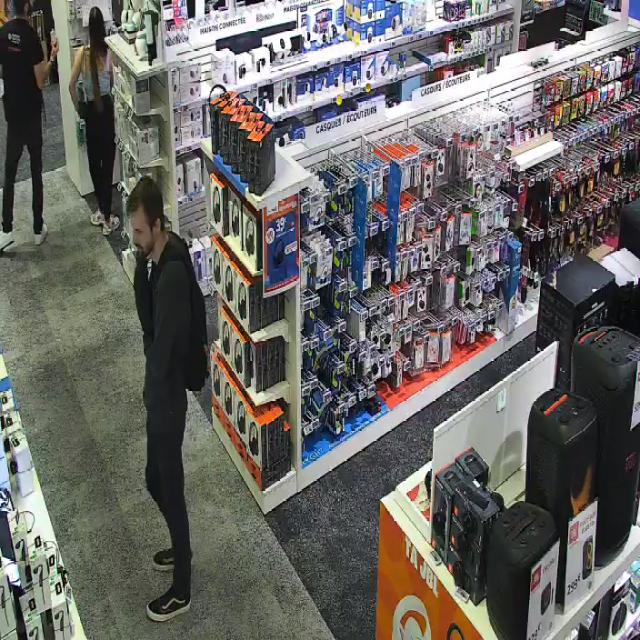article: (50, 28, 56, 47)
bags: (76, 81, 86, 118)
hands: (50, 37, 59, 60)
person: (127, 177, 207, 621), (0, 0, 51, 250), (69, 7, 119, 234)
